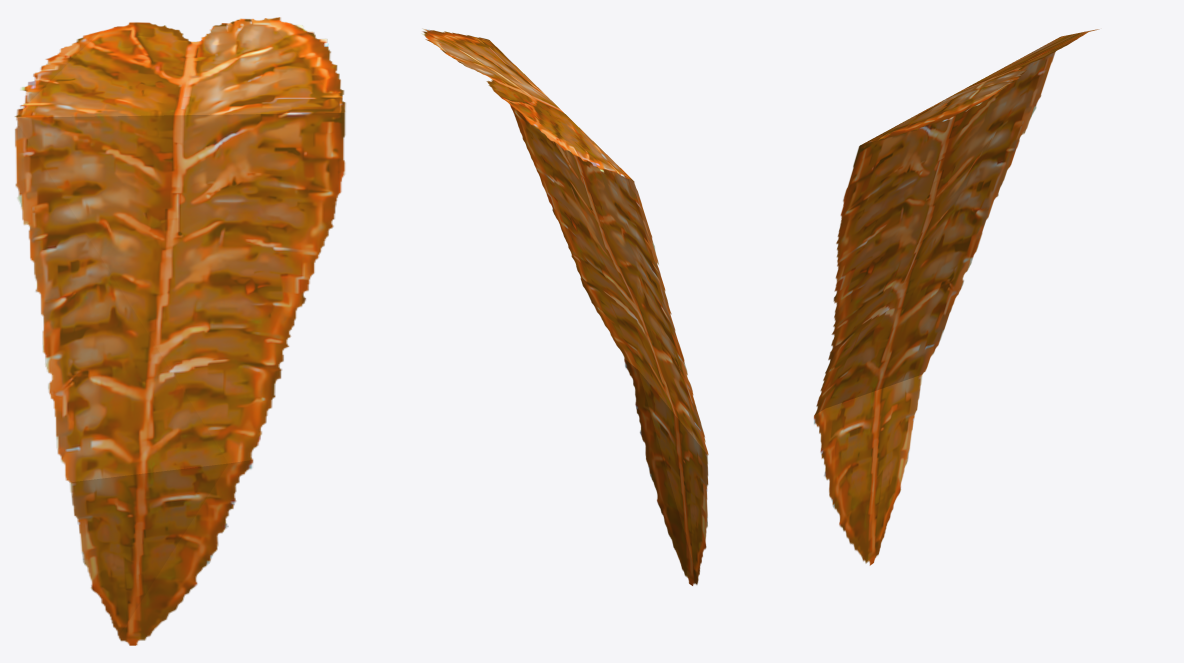
The model's file is AlienPlant_1_PhLeaf_1.gltf.
3 renders of one model, left to right at view 1: azimuth 30°, elevation 25°; view 2: azimuth 150°, elevation 25°; view 3: azimuth 270°, elevation 25°, orthographic. The views are drawn at different scales.
Parts seen in each view (by area): view 1: AlienPlant_1_PhLeaf_1; view 2: AlienPlant_1_PhLeaf_1; view 3: AlienPlant_1_PhLeaf_1.
Boxes of the visible parts, x1,y1,x2,y2 form: AlienPlant_1_PhLeaf_1: (15,17,345,645); AlienPlant_1_PhLeaf_1: (421,28,708,585); AlienPlant_1_PhLeaf_1: (814,29,1099,565).
Size of the model in its own units: 0.9155 by 1.41 by 0.8824.
Materials: 1 (1 with a texture image).
